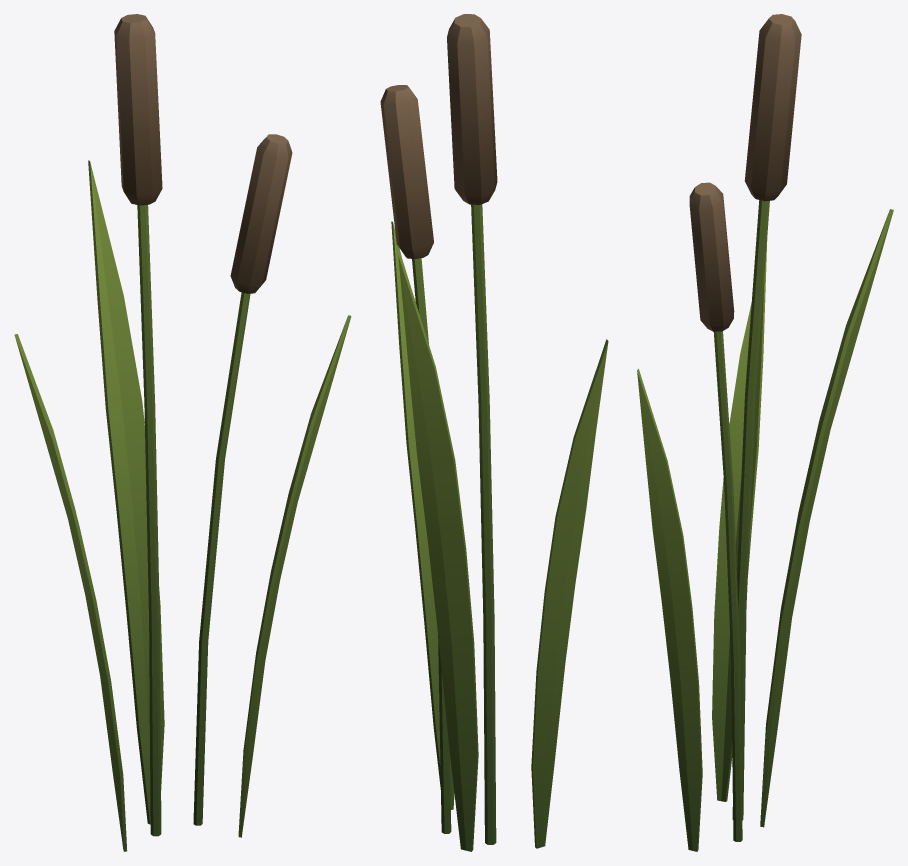
File: PondPlant_05.fbx
3 views of the same model, side by side, from view 1: azimuth 30°, elevation 25°; view 2: azimuth 150°, elevation 25°; view 3: azimuth 270°, elevation 25° (orthographic). The views are drawn at different scales.
Parts seen in each view (by area): view 1: PondPlant_05_LOD0; view 2: PondPlant_05_LOD0; view 3: PondPlant_05_LOD0.
Part boxes in pixels (x1,y1,x2,y2): PondPlant_05_LOD0: (14,14,351,851); PondPlant_05_LOD0: (380,14,608,851); PondPlant_05_LOD0: (637,14,893,851).
Size of what is drawn, in the model's own units: 0.252 by 0.709 by 0.2059.
